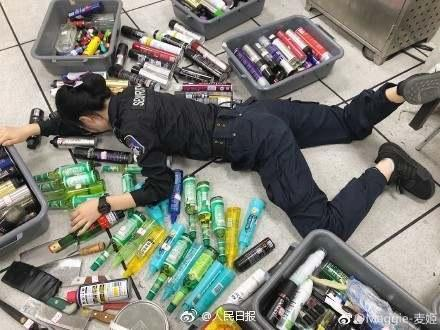Fall-Detected: (0, 54, 440, 240)
